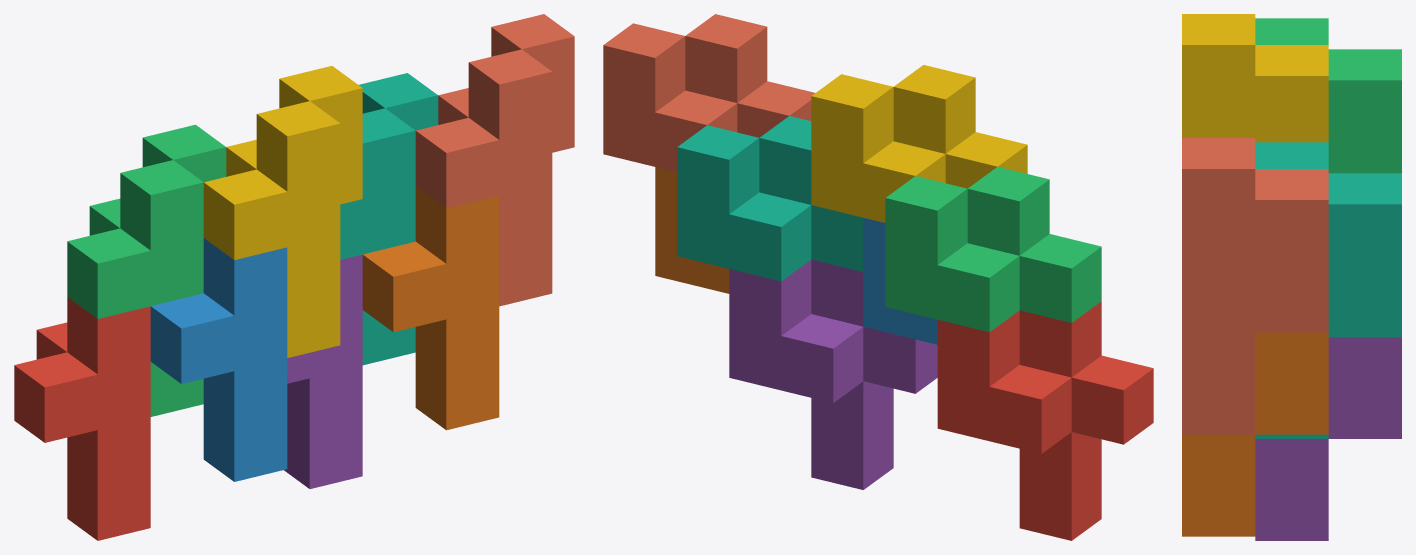
The model's file is tiling.obj.
The picture shows the model from 3 angles, left to right: view 1: azimuth 30°, elevation 25°; view 2: azimuth 150°, elevation 25°; view 3: azimuth 270°, elevation 25°; orthographic projection. The views are drawn at different scales.
Visible parts, largest first — view 1: copy_1_domain_8, copy_1_domain_4, copy_1_domain_1, copy_1_domain_2, copy_1_domain_6, copy_1_domain_3, copy_1_domain_7, copy_1_domain_5; view 2: copy_1_domain_1, copy_1_domain_5, copy_1_domain_3, copy_1_domain_7, copy_1_domain_4, copy_1_domain_8, copy_1_domain_6, copy_1_domain_2; view 3: copy_1_domain_8, copy_1_domain_4, copy_1_domain_6, copy_1_domain_5, copy_1_domain_7, copy_1_domain_3.
Boxes of the visible parts, x1,y1,x2,y2 form: copy_1_domain_8: [415, 14, 574, 306]; copy_1_domain_4: [203, 66, 362, 357]; copy_1_domain_1: [14, 297, 150, 540]; copy_1_domain_2: [150, 238, 287, 481]; copy_1_domain_6: [362, 186, 499, 430]; copy_1_domain_3: [67, 124, 226, 416]; copy_1_domain_7: [340, 73, 438, 365]; copy_1_domain_5: [284, 254, 362, 488]; copy_1_domain_1: [937, 301, 1153, 540]; copy_1_domain_5: [729, 259, 937, 489]; copy_1_domain_3: [885, 166, 1101, 332]; copy_1_domain_7: [677, 116, 863, 281]; copy_1_domain_4: [811, 65, 1027, 222]; copy_1_domain_8: [603, 14, 814, 171]; copy_1_domain_6: [655, 167, 729, 293]; copy_1_domain_2: [863, 218, 937, 344]; copy_1_domain_8: [1182, 138, 1328, 434]; copy_1_domain_4: [1182, 14, 1328, 142]; copy_1_domain_6: [1182, 332, 1328, 536]; copy_1_domain_5: [1255, 337, 1401, 540]; copy_1_domain_7: [1255, 142, 1401, 438]; copy_1_domain_3: [1255, 18, 1401, 173].
Bounding box in the file's own units: 10 × 7 × 3.
